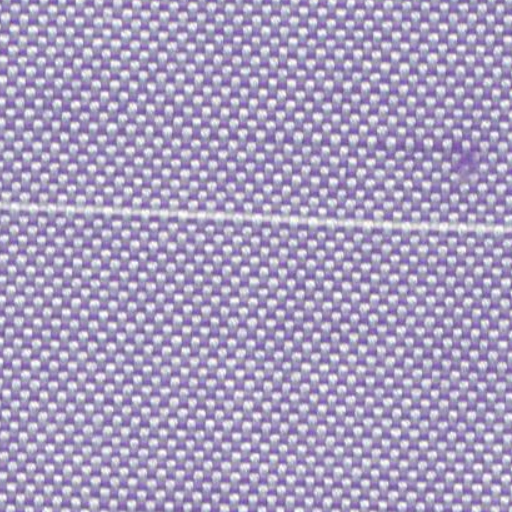TuoSha: (12, 182, 498, 278)
